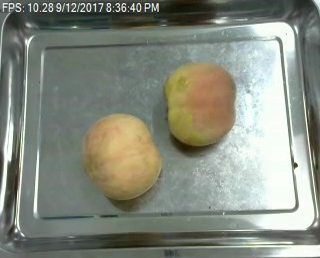Peach: (81, 111, 162, 200), (163, 60, 236, 147)
